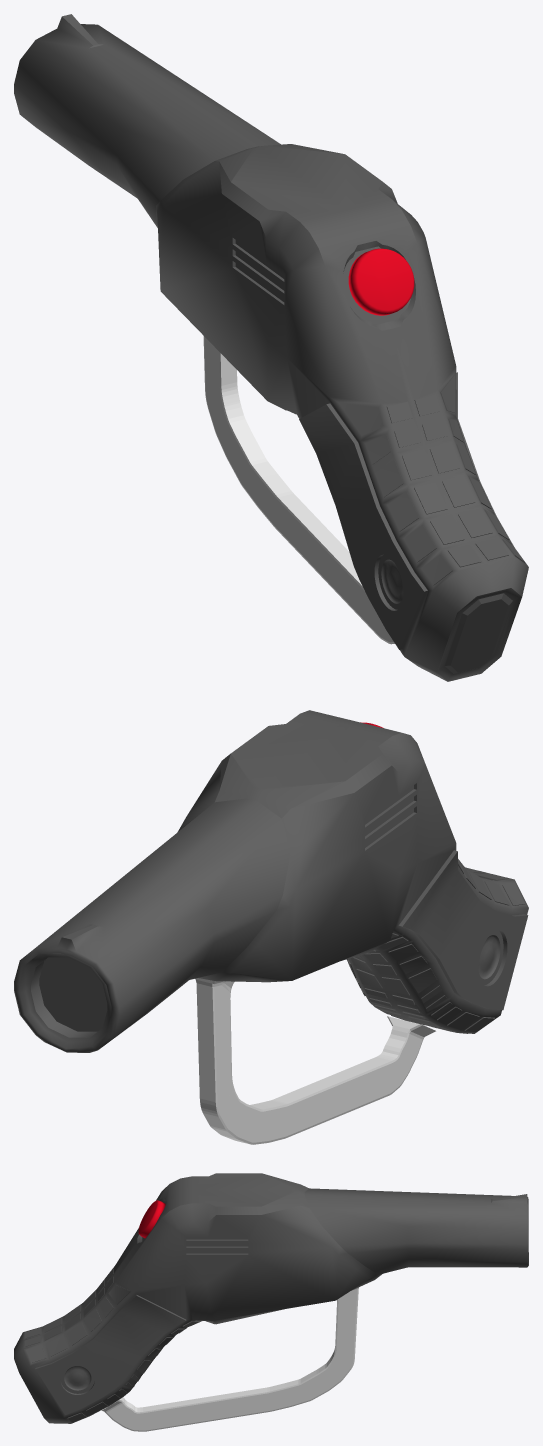
The model's file is Gun_Pistol.fbx.
The picture shows the model from 3 angles, top to bottom: view 1: azimuth 30°, elevation 25°; view 2: azimuth 150°, elevation 25°; view 3: azimuth 270°, elevation 25°; orthographic projection. The views are drawn at different scales.
Visible parts, largest first — view 1: Body, Guard.001, Button; view 2: Body, Guard.001; view 3: Body, Guard.001, Button.
Part boxes in pixels (x1,y1,x2,y2): Body: (14,14,528,681); Guard.001: (203,336,394,644); Button: (348,248,414,315); Body: (14,710,528,1052); Guard.001: (195,978,435,1144); Body: (14,1173,528,1423); Guard.001: (101,1287,358,1431); Button: (138,1200,165,1238).
Size of the model in its own units: 119 by 342 by 669.
